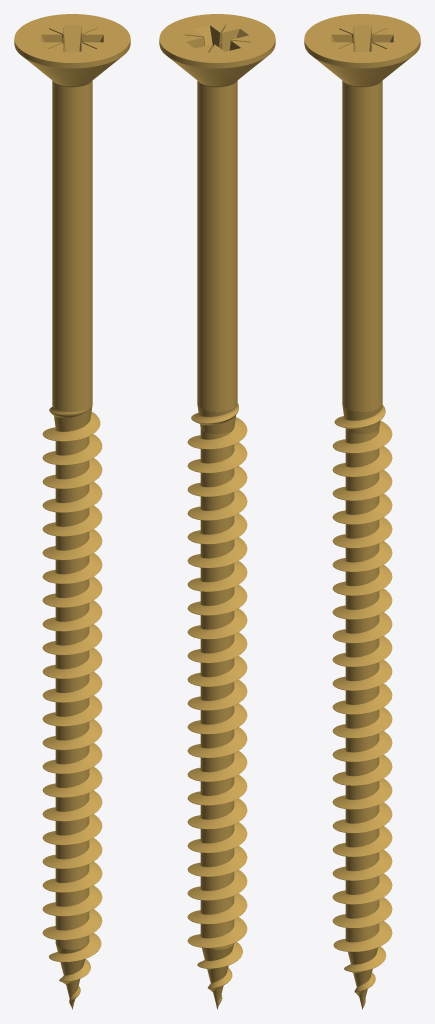
File: model_full.glb
3 renders of one model, left to right at view 1: azimuth 90°, elevation 25°; view 2: azimuth 210°, elevation 25°; view 3: azimuth 270°, elevation 25°, orthographic.
Visible parts, largest first — view 1: geometry_0; view 2: geometry_0; view 3: geometry_0.
Boxes of the visible parts, bbox=[...] form: geometry_0: bbox=[14, 14, 130, 1009]; geometry_0: bbox=[159, 14, 275, 1009]; geometry_0: bbox=[304, 14, 420, 1009].
Bounding box in the file's own units: 0.00975 × 0.09 × 0.00975.
